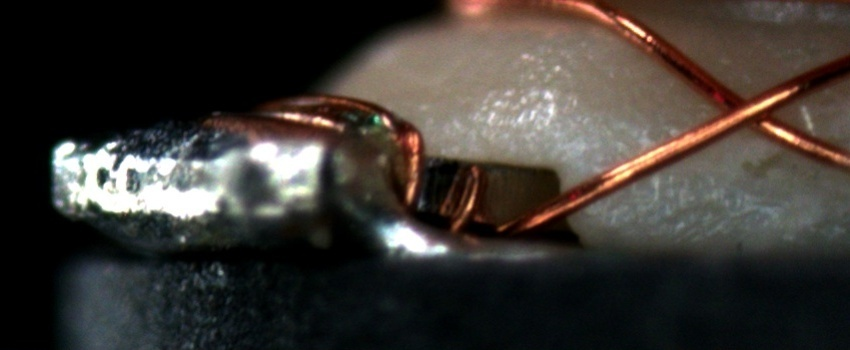CL: (699, 74, 799, 144)
TE: (257, 84, 486, 243)
